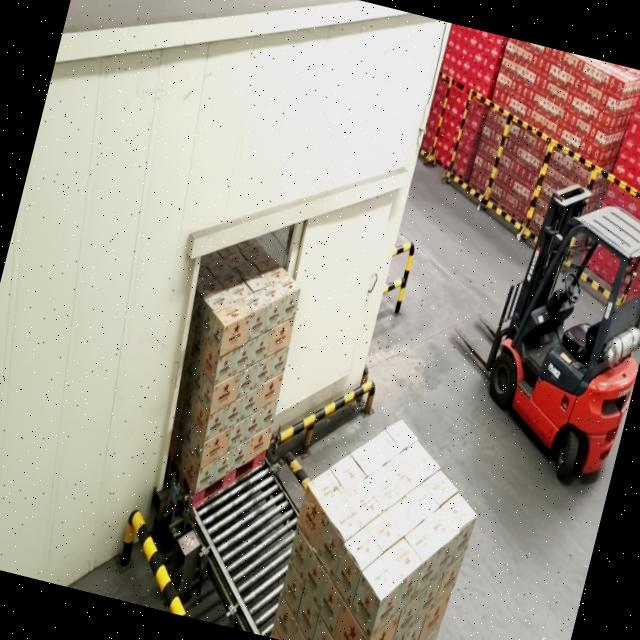pallet: (263, 395, 500, 640), (135, 227, 323, 526)
